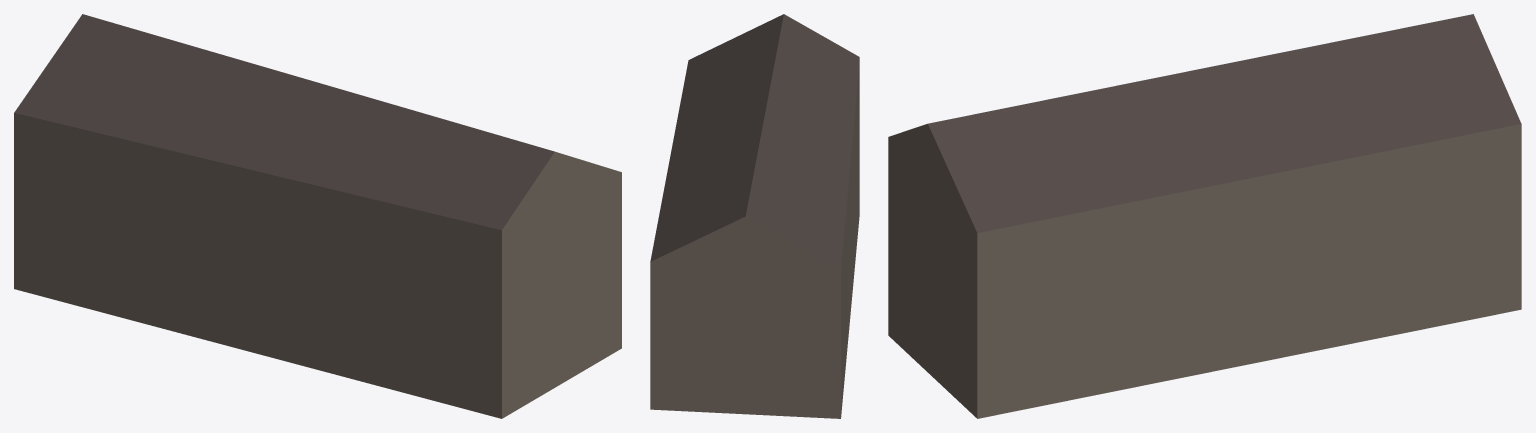
3 renders of one model, left to right at view 1: azimuth 30°, elevation 25°; view 2: azimuth 150°, elevation 25°; view 3: azimuth 270°, elevation 25°, orthographic. The views are drawn at different scales.
Visible parts, largest first — view 1: HP-w1513026736; view 2: HP-w1513026736; view 3: HP-w1513026736.
Part boxes in pixels (box(x1,y1,x2,y2)): HP-w1513026736: box(14, 14, 621, 418); HP-w1513026736: box(650, 14, 859, 418); HP-w1513026736: box(888, 14, 1521, 418).
Bounding box in the file's own units: 14.06 × 8.04 × 18.54.
